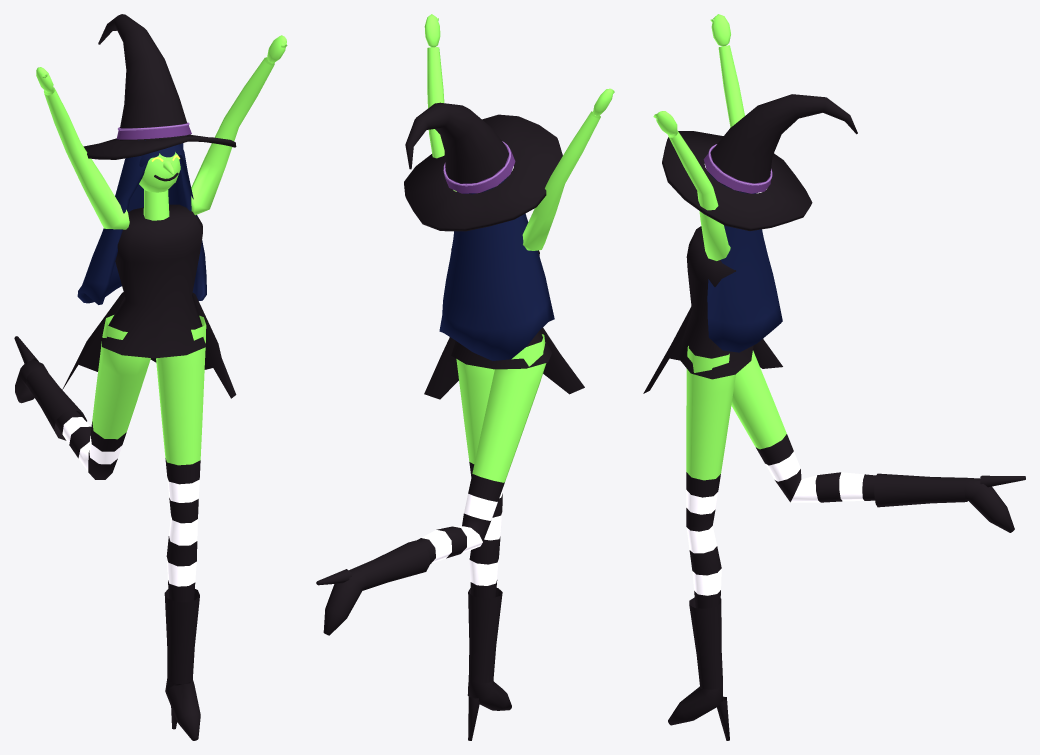
File: witch_happy_hop.glb
3 views of the same model, side by side, from view 1: azimuth 30°, elevation 25°; view 2: azimuth 150°, elevation 25°; view 3: azimuth 270°, elevation 25° (orthographic). The views are drawn at different scales.
Visible parts, largest first — view 1: HWG_WitchHappy_hop; view 2: HWG_WitchHappy_hop; view 3: HWG_WitchHappy_hop.
Boxes of the visible parts, left/top/right/bottom form: HWG_WitchHappy_hop: left=14, top=14, right=287, bottom=740; HWG_WitchHappy_hop: left=316, top=14, right=614, bottom=740; HWG_WitchHappy_hop: left=643, top=14, right=1025, bottom=740.
Bounding box in the file's own units: 0.4529 × 1.39 × 0.7246.
